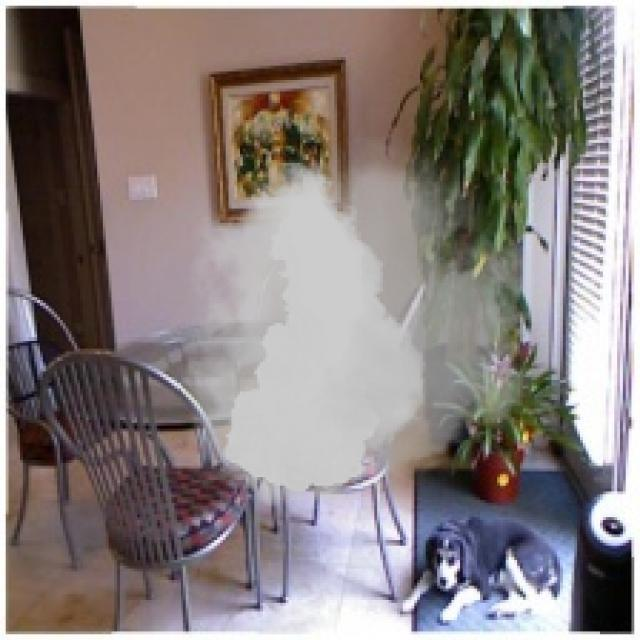Smoke: (155, 137, 574, 517)
